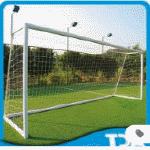goals: (3, 21, 145, 139)
